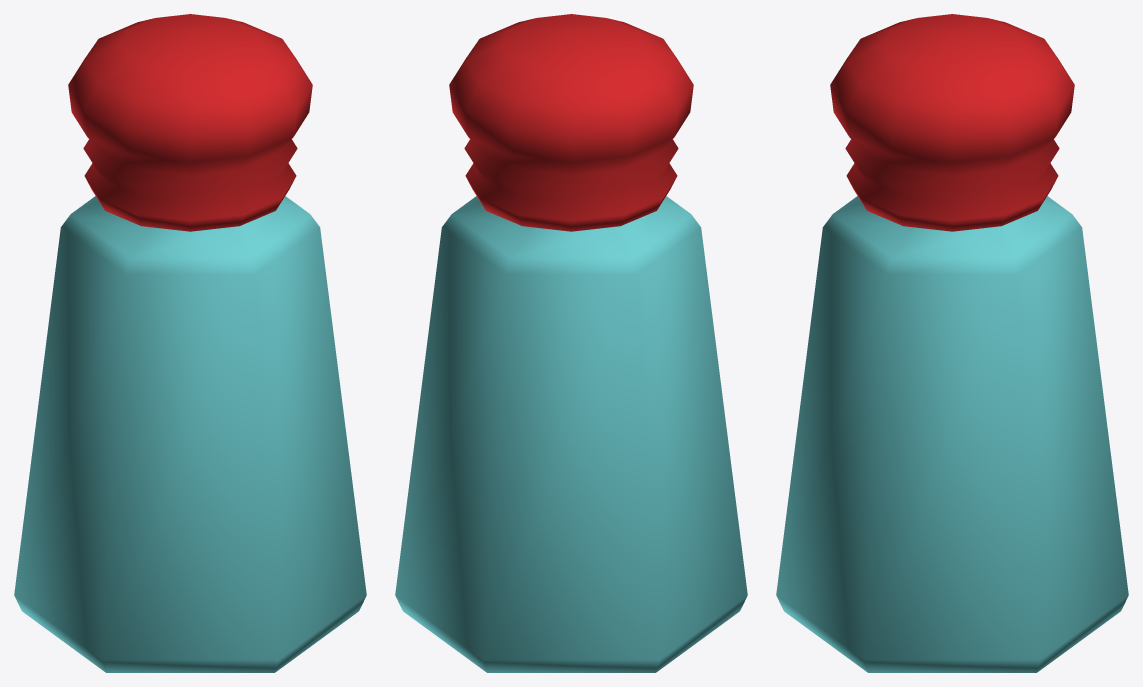
The model's file is MOD_PRO_Pepper_shaker_01.fbx.
The picture shows the model from 3 angles, left to right: view 1: azimuth 30°, elevation 25°; view 2: azimuth 150°, elevation 25°; view 3: azimuth 270°, elevation 25°; orthographic projection.
Parts seen in each view (by area): view 1: HSHP_MOD_Pepper_shaker; view 2: HSHP_MOD_Pepper_shaker; view 3: HSHP_MOD_Pepper_shaker.
Part boxes in pixels (x1,y1,x2,y2): HSHP_MOD_Pepper_shaker: (14,14,366,672); HSHP_MOD_Pepper_shaker: (395,14,747,672); HSHP_MOD_Pepper_shaker: (776,14,1128,672).
Bounding box in the file's own units: 0.0497 × 0.1034 × 0.0574.
